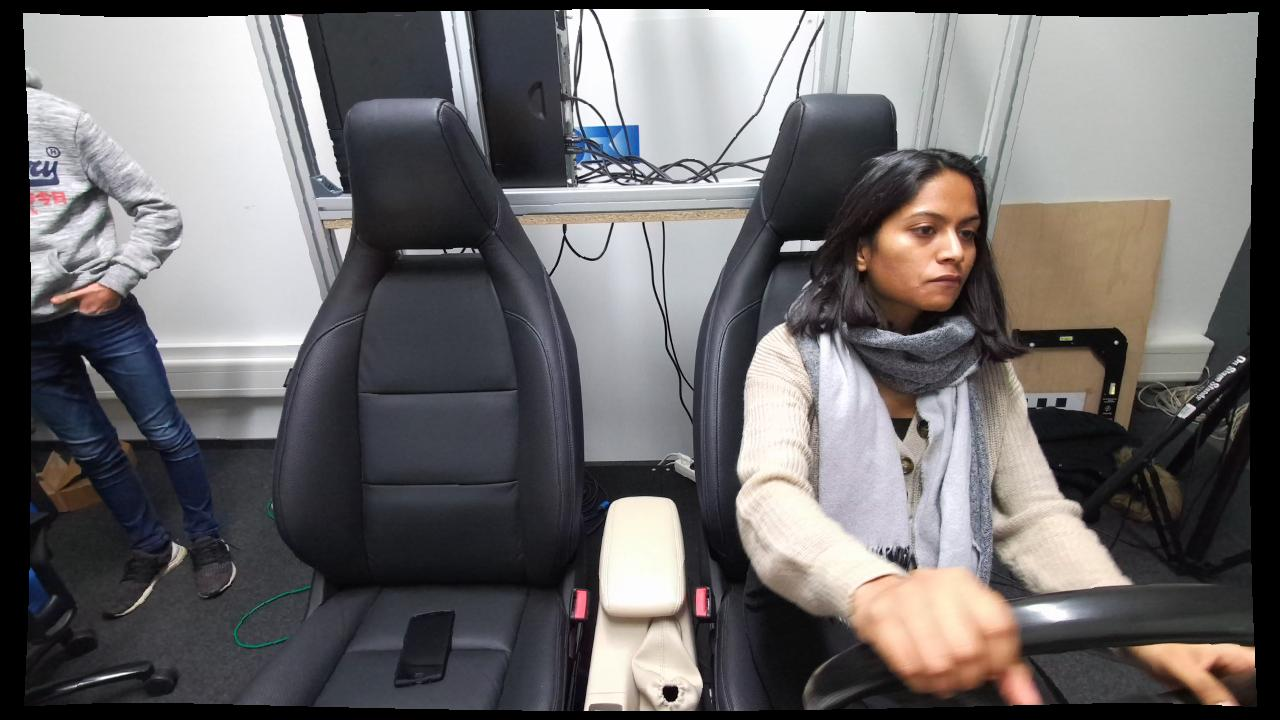SafeDriving: (711, 146, 1108, 707)
